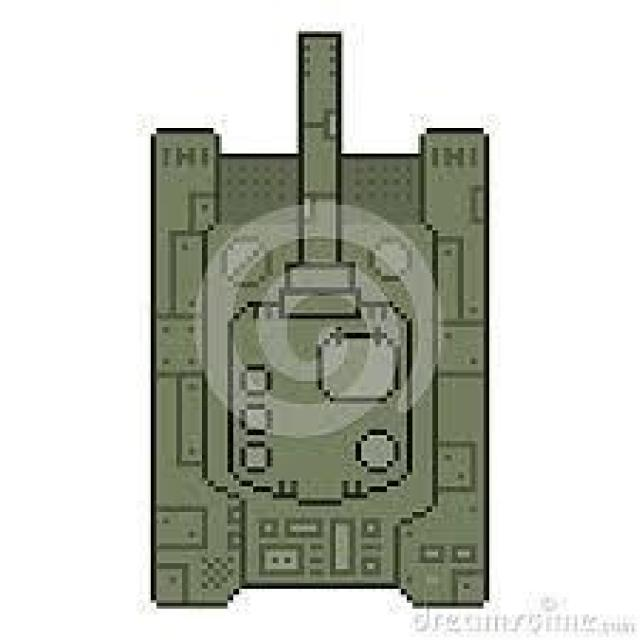Tanks: (126, 21, 505, 636)
